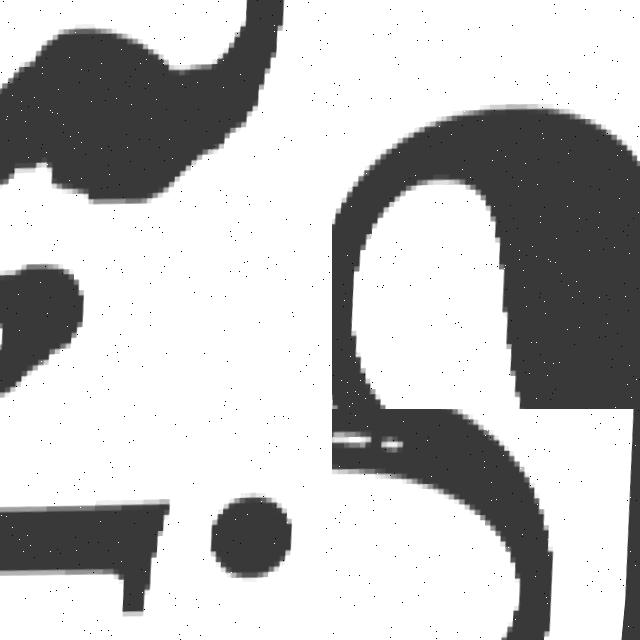0: (332, 409, 597, 640)
J: (0, 466, 315, 640)
S: (0, 0, 332, 407), (332, 72, 640, 409)
